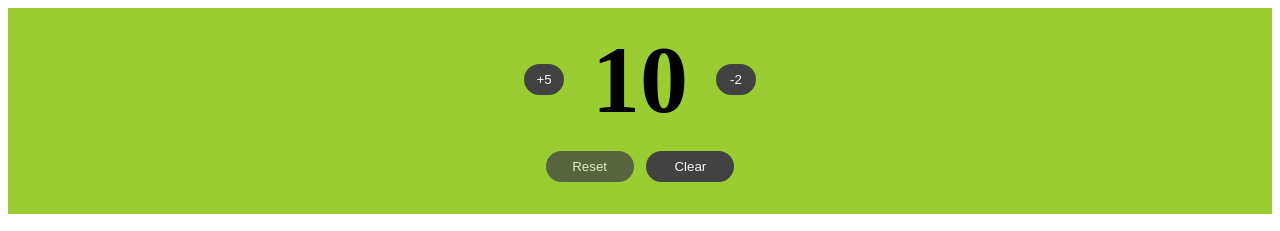
-2 button › disabled if final count would be below min
This screenshot has width=1280, height=231.
Click the button "-2". click: coordinates (736, 80)
box: [716, 64, 756, 95]
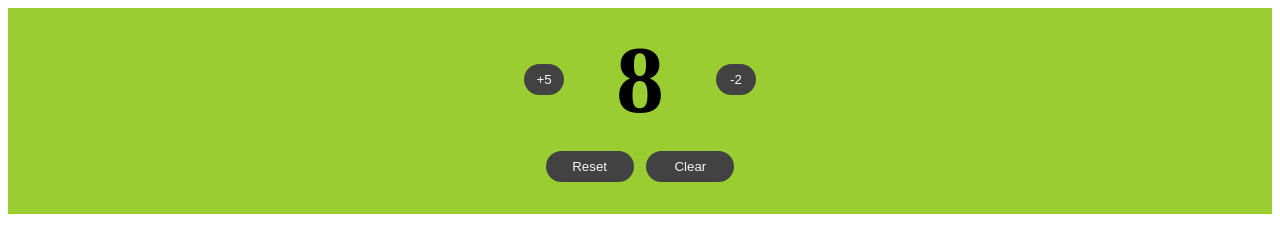
Click the button "-2". click: coordinates (736, 80)
box: [716, 64, 756, 95]
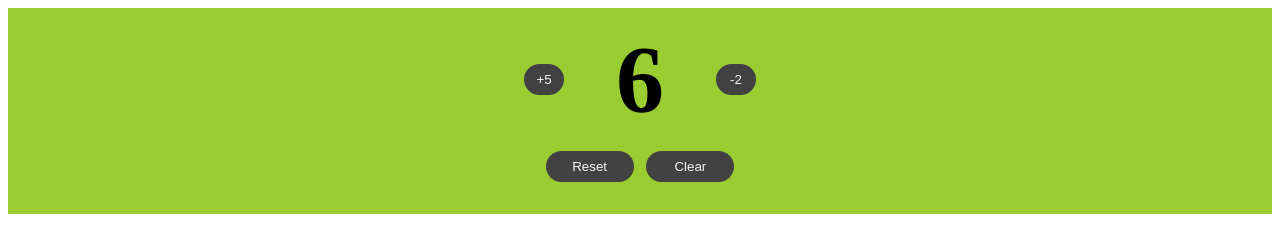
Click the button "-2". click: coordinates (736, 80)
box: [716, 64, 756, 95]
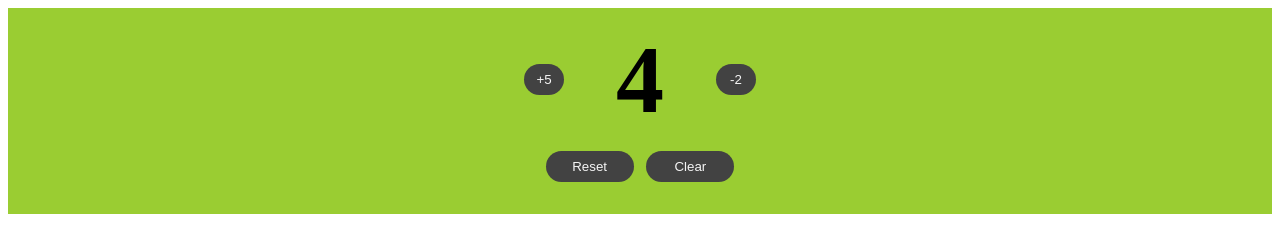
Click the button "-2". click: coordinates (736, 80)
box: [716, 64, 756, 95]
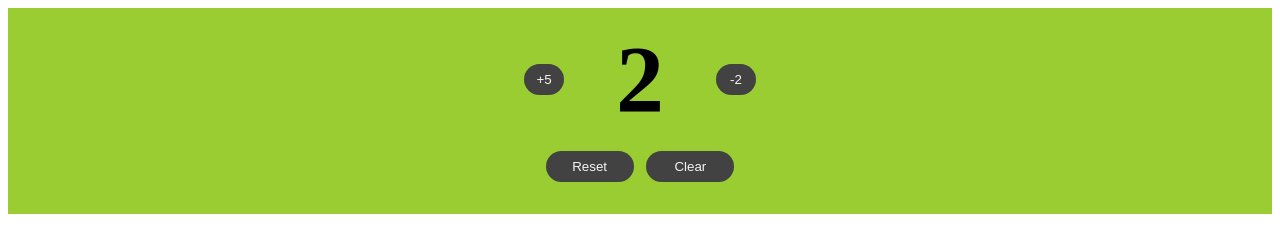
Click the button "-2". click: coordinates (736, 80)
box: [716, 64, 756, 95]
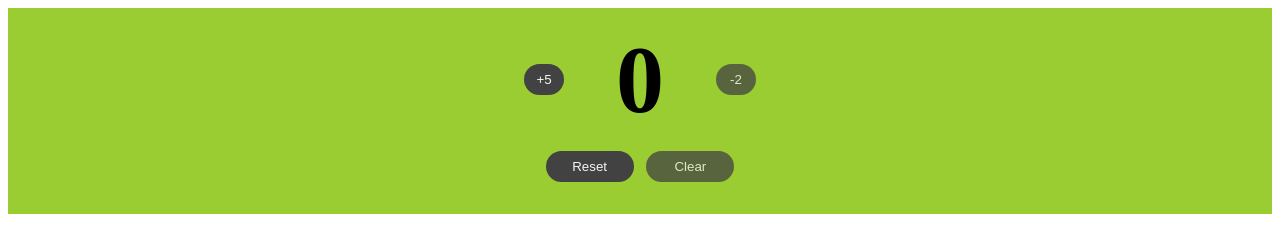
Now the button "-2" is disabled, box [716, 64, 756, 95]
